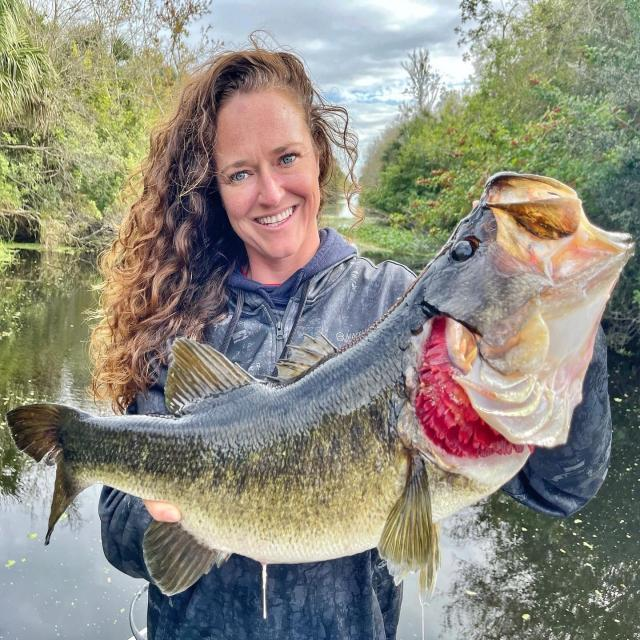Bass - Largemouth: (7, 172, 633, 617)
